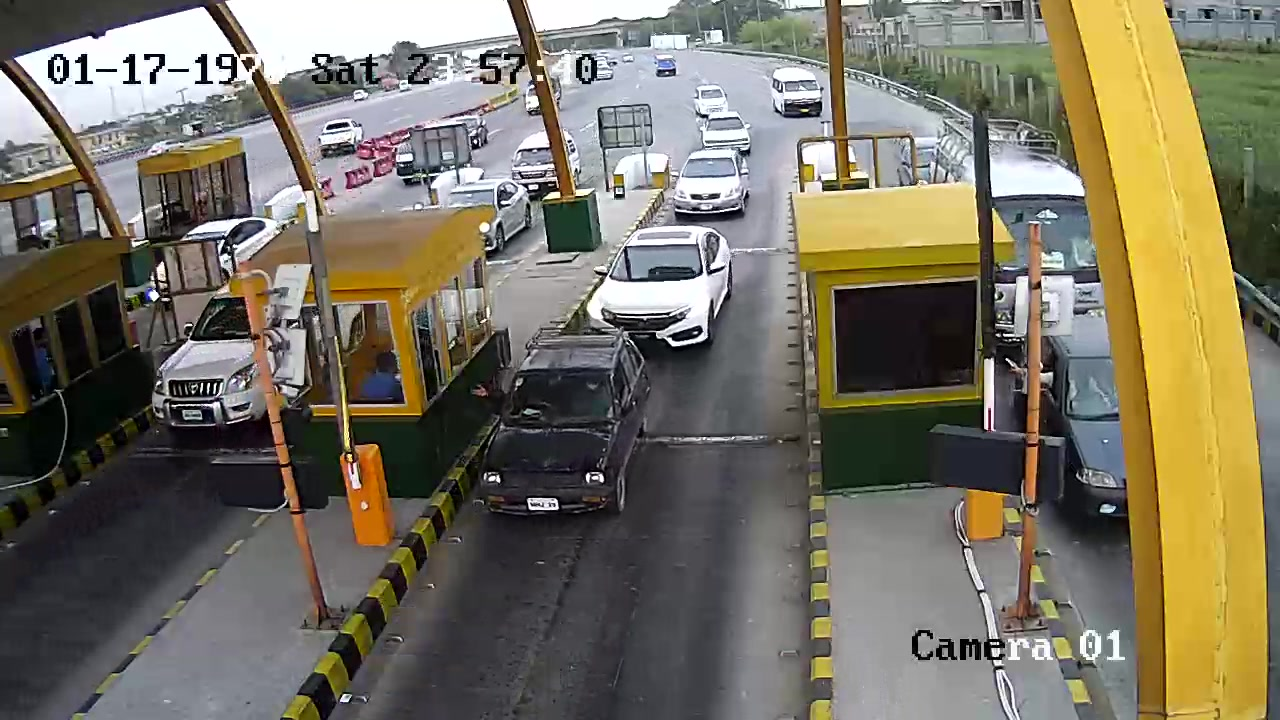F1: (457, 329, 653, 536)
